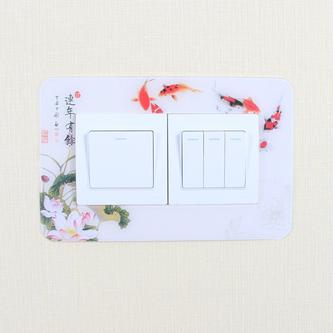switch: (86, 131, 156, 187), (228, 133, 250, 194), (180, 133, 201, 185), (203, 134, 222, 190)
